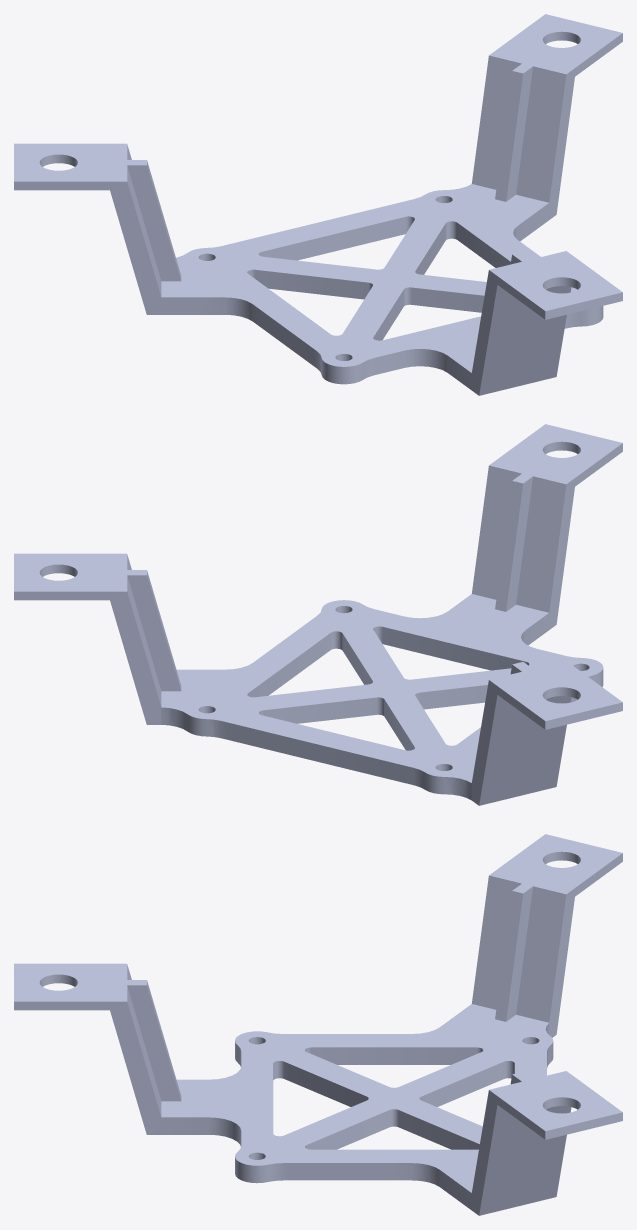
3 renders of one model, top to bottom at view 1: azimuth 30°, elevation 25°; view 2: azimuth 150°, elevation 25°; view 3: azimuth 270°, elevation 25°, orthographic.
Visible parts, largest first — view 1: node0; view 2: node0; view 3: node0.
Boxes of the visible parts, left/top/right/bottom form: node0: left=14, top=14, right=622, bottom=395; node0: left=14, top=424, right=622, bottom=805; node0: left=14, top=834, right=622, bottom=1215.
Size of the model in its own units: 0.11 by 0.023 by 0.0953.
